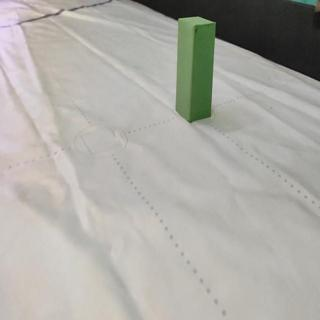greenbox: (175, 17, 217, 123)
